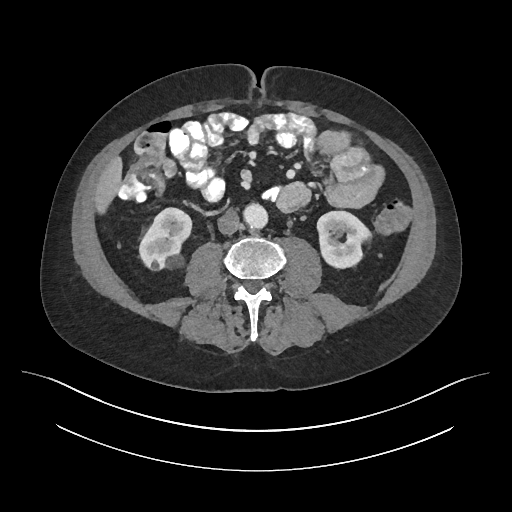Lesion: (161, 251, 191, 274)
